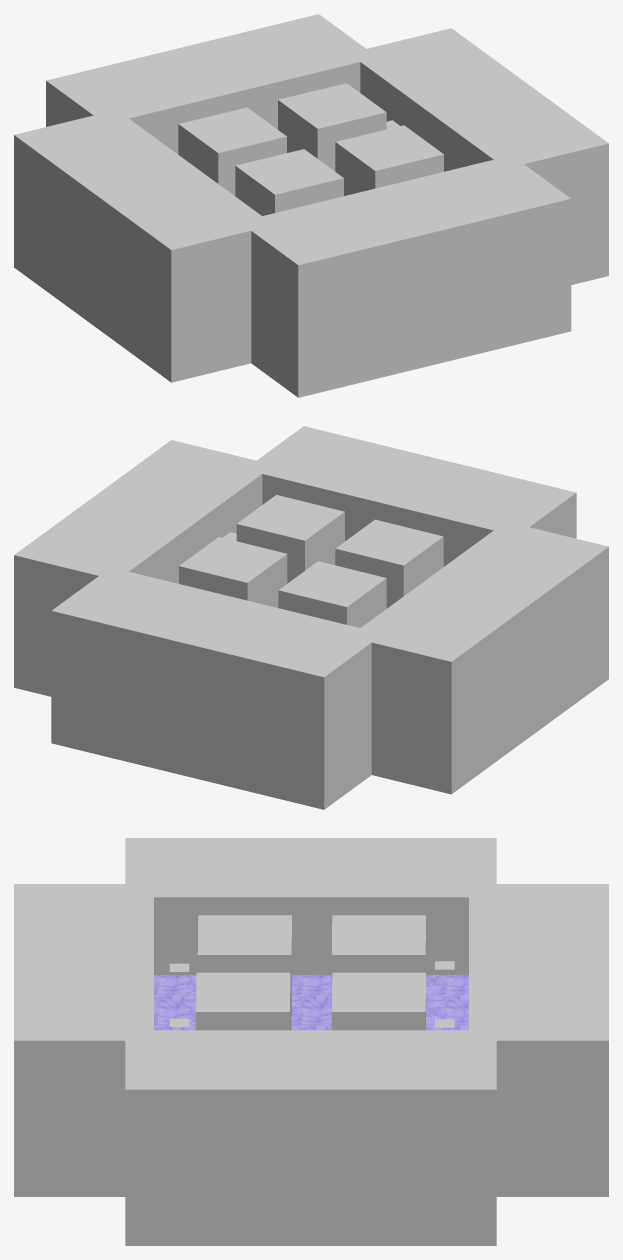
Rendered from level_03.glb.
3 renders of one model, top to bottom at view 1: azimuth 30°, elevation 25°; view 2: azimuth 150°, elevation 25°; view 3: azimuth 270°, elevation 25°, orthographic. The views are drawn at different scales.
Parts seen in each view (by area): view 1: Cube.Invisible.007, Cube.Invisible.008, Cube.Invisible.004, Cube.Invisible.006, Cube.Invisible.005, Cube.Invisible.001, Cube.Invisible.002, Cube.Invisible.003; view 2: Cube.Invisible.006, Cube.Invisible.008, Cube.Invisible.004, Cube.Invisible.007, Cube.Invisible.002, Cube.Invisible.003, Cube.Invisible.005, Cube.Invisible.001; view 3: Cube.Invisible.004, Cube.Invisible.006, Cube.Invisible.007, Cube.Invisible.008, Cube.Invisible.002, Cube.Invisible.003, Cube.Invisible.005, Cube.Invisible.001, Cube.002, Cube.003, Cube.005, Cube.006.
Part boxes in pixels (x1,y1,x2,y2): Cube.Invisible.007: [239, 155, 571, 397]; Cube.Invisible.008: [14, 115, 267, 382]; Cube.Invisible.004: [354, 28, 608, 284]; Cube.Invisible.006: [46, 14, 377, 154]; Cube.Invisible.005: [278, 83, 386, 171]; Cube.Invisible.001: [178, 107, 286, 195]; Cube.Invisible.002: [335, 125, 443, 195]; Cube.Invisible.003: [235, 149, 343, 215]; Cube.Invisible.006: [51, 567, 382, 809]; Cube.Invisible.008: [354, 527, 608, 794]; Cube.Invisible.004: [14, 440, 269, 696]; Cube.Invisible.007: [244, 426, 576, 566]; Cube.Invisible.002: [236, 495, 344, 583]; Cube.Invisible.003: [335, 519, 443, 608]; Cube.Invisible.005: [179, 537, 287, 607]; Cube.Invisible.001: [278, 561, 386, 627]; Cube.Invisible.004: [125, 1030, 496, 1245]; Cube.Invisible.006: [469, 884, 608, 1196]; Cube.Invisible.007: [14, 884, 153, 1196]; Cube.Invisible.008: [125, 838, 496, 975]; Cube.Invisible.002: [196, 972, 290, 1030]; Cube.Invisible.003: [197, 915, 291, 1030]; Cube.Invisible.005: [331, 972, 425, 1030]; Cube.Invisible.001: [331, 915, 425, 1011]; Cube.002: [426, 975, 468, 1030]; Cube.003: [154, 975, 331, 994]; Cube.005: [291, 994, 331, 1030]; Cube.006: [154, 994, 196, 1030].
Bounding box in the file's own units: 60.46 × 17.5 × 60.41.
1 material, 1 textured.
